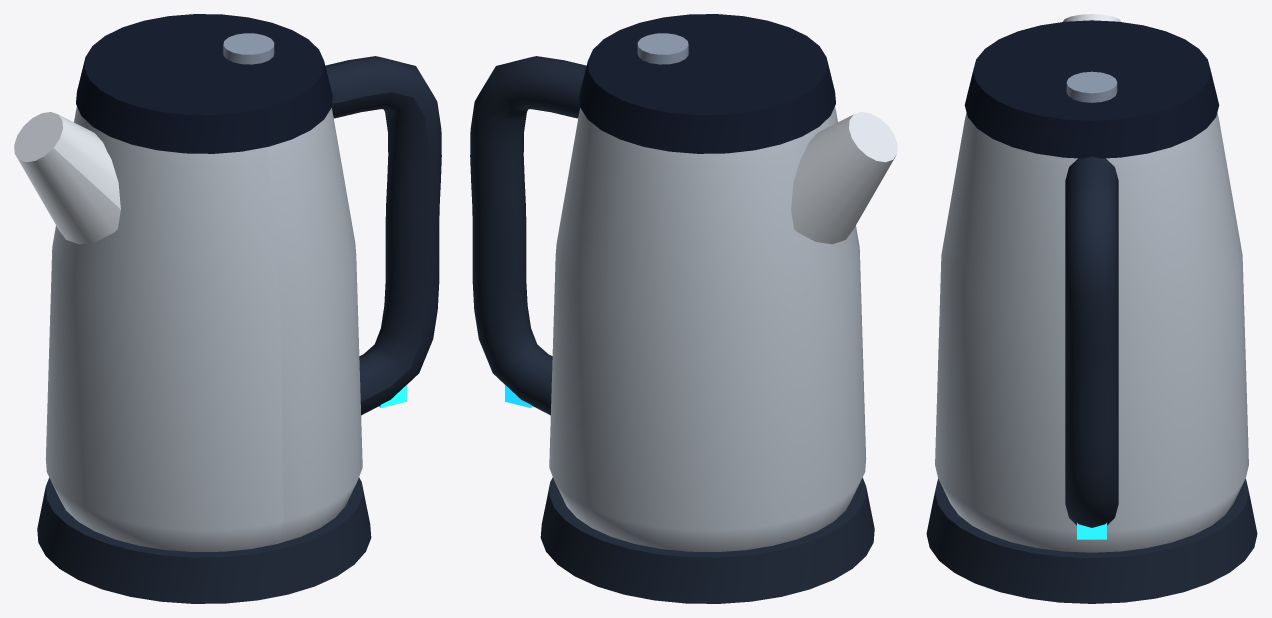
Rendered from electric-kettle.glb.
3 views of the same model, side by side, from view 1: azimuth 30°, elevation 25°; view 2: azimuth 150°, elevation 25°; view 3: azimuth 270°, elevation 25° (orthographic).
Visible parts, largest first — view 1: Kettle_Body, Kettle_Lid, Kettle_Handle, Power_Base, Pouring_Spout, Lid_Button; view 2: Kettle_Body, Kettle_Lid, Kettle_Handle, Power_Base, Pouring_Spout, Lid_Button; view 3: Kettle_Body, Kettle_Lid, Kettle_Handle, Power_Base, Lid_Button.
Part boxes in pixels (left/top/right/bottom): Kettle_Body: left=45, top=107, right=362, bottom=551; Kettle_Lid: left=76, top=14, right=332, bottom=153; Kettle_Handle: left=325, top=56, right=441, bottom=415; Power_Base: left=37, top=477, right=371, bottom=603; Pouring_Spout: left=14, top=112, right=120, bottom=244; Lid_Button: left=223, top=33, right=274, bottom=64; Kettle_Body: left=549, top=107, right=866, bottom=551; Kettle_Lid: left=579, top=14, right=835, bottom=153; Kettle_Handle: left=470, top=56, right=586, bottom=415; Power_Base: left=540, top=477, right=874, bottom=603; Pouring_Spout: left=791, top=112, right=897, bottom=244; Lid_Button: left=637, top=33, right=688, bottom=64; Kettle_Body: left=935, top=112, right=1248, bottom=552; Kettle_Lid: left=964, top=20, right=1219, bottom=158; Kettle_Handle: left=1065, top=156, right=1118, bottom=527; Power_Base: left=926, top=478, right=1257, bottom=603; Lid_Button: left=1066, top=71, right=1117, bottom=102.
Bounding box in the file's own units: 0.2256 × 0.246 × 0.156.
